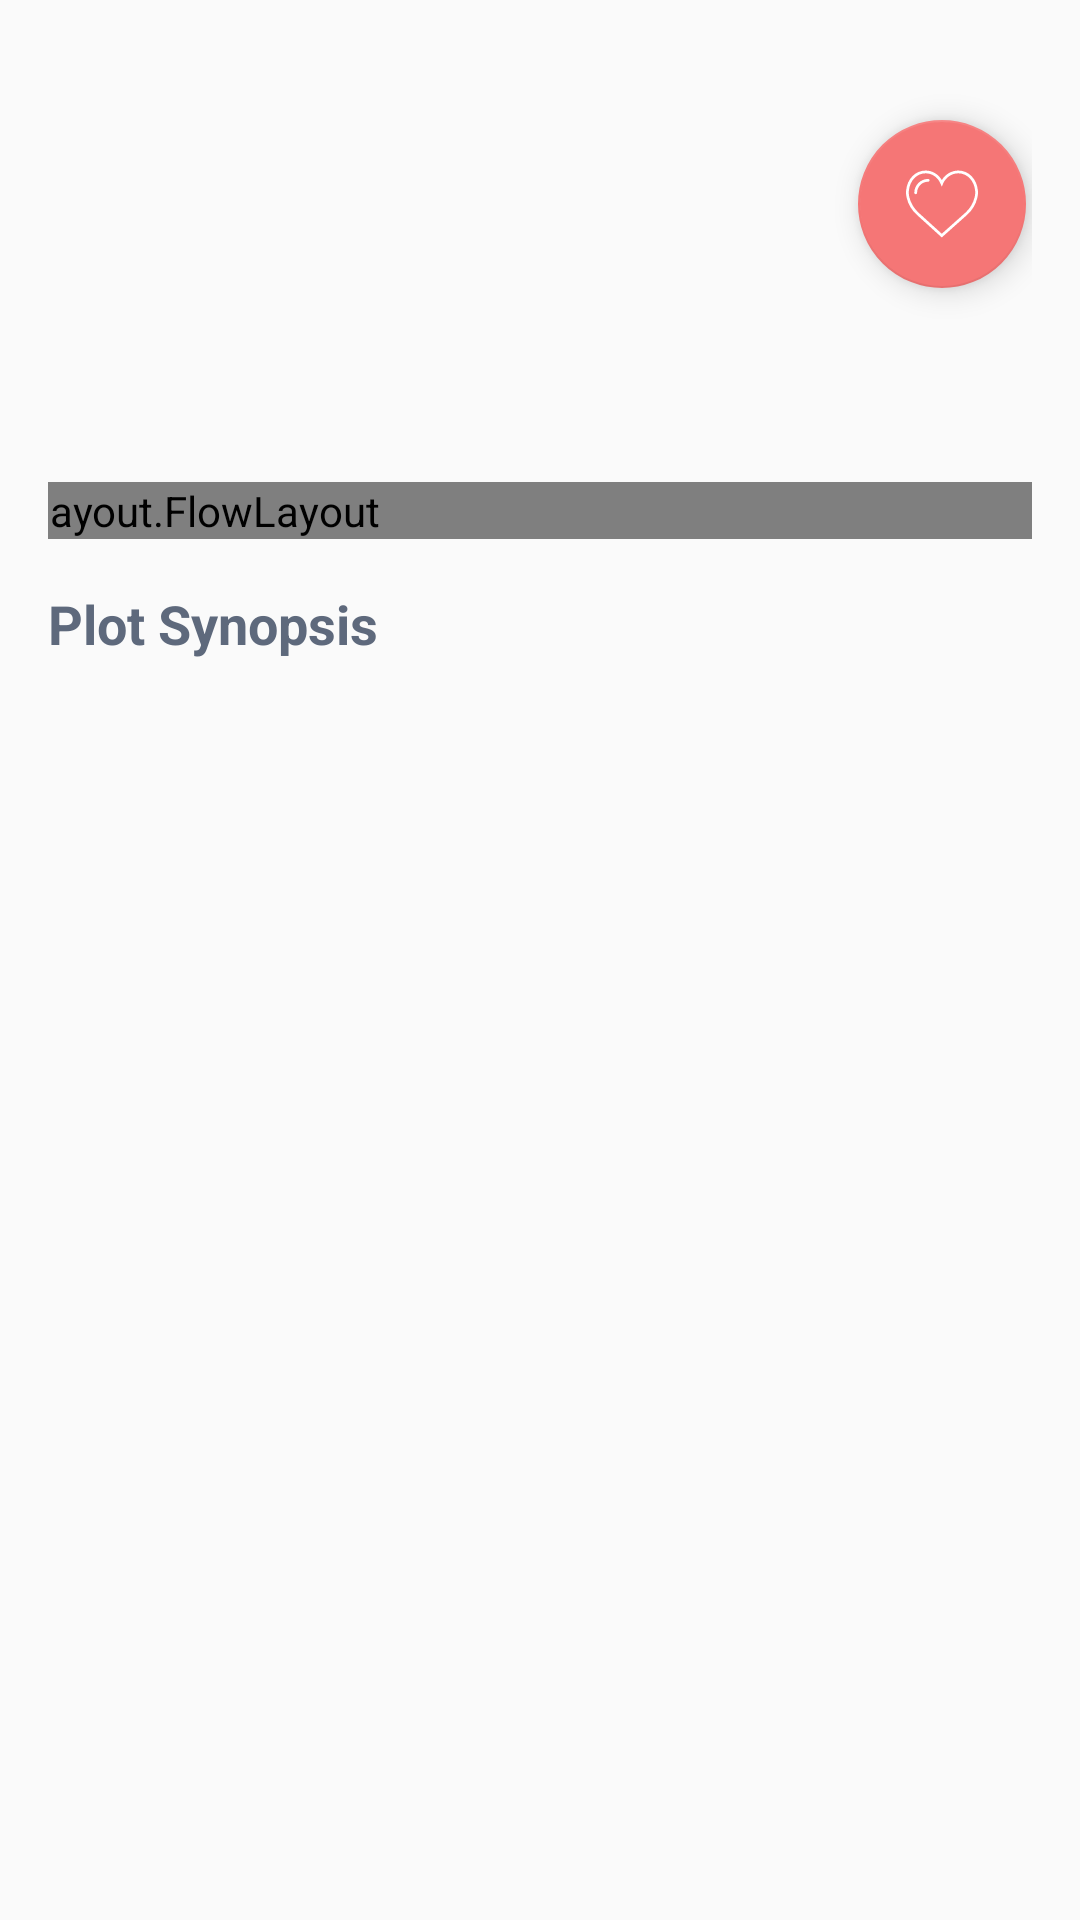

Point at icon controls on the screen. Image size 1080×1920, points as point (x, y).
heart: point (942, 204)
